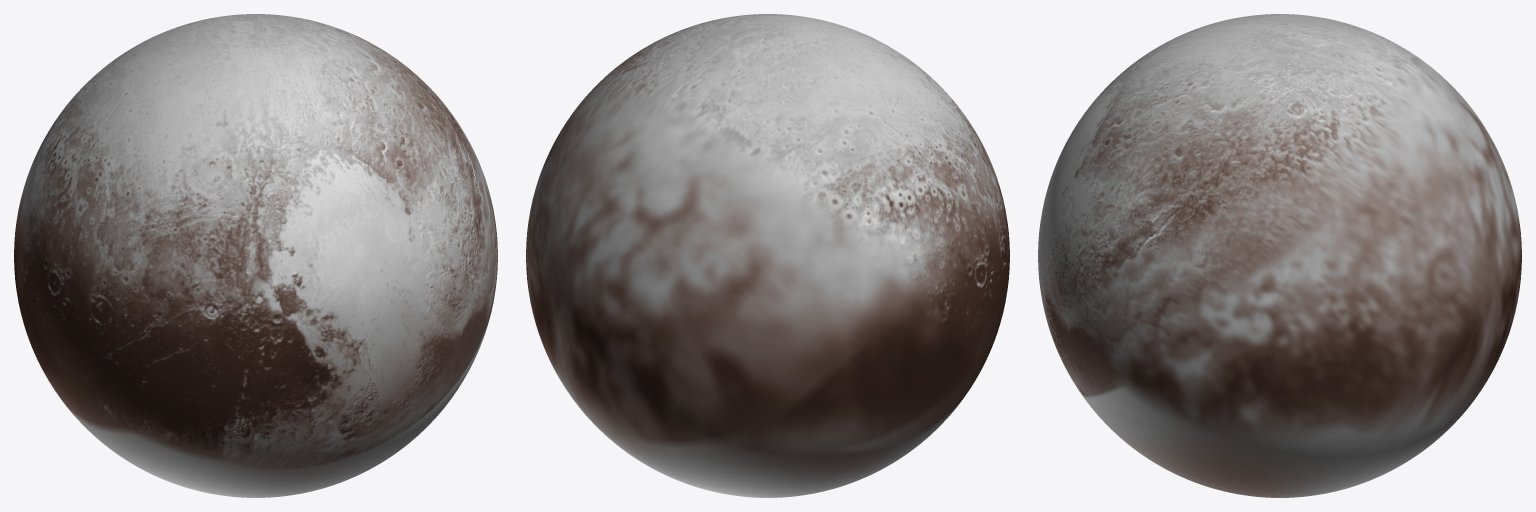
The model's file is pluto.glb.
The picture shows the model from 3 angles, left to right: view 1: azimuth 30°, elevation 25°; view 2: azimuth 150°, elevation 25°; view 3: azimuth 270°, elevation 25°; orthographic projection.
Parts seen in each view (by area): view 1: cylindrically_mapped_sphere; view 2: cylindrically_mapped_sphere; view 3: cylindrically_mapped_sphere.
Boxes of the visible parts, x1,y1,x2,y2 form: cylindrically_mapped_sphere: (14,14,497,497); cylindrically_mapped_sphere: (526,14,1009,497); cylindrically_mapped_sphere: (1038,14,1521,497).
Size of the model in its own units: 1000 by 1000 by 1000.
Materials: 1 (1 with a texture image).
